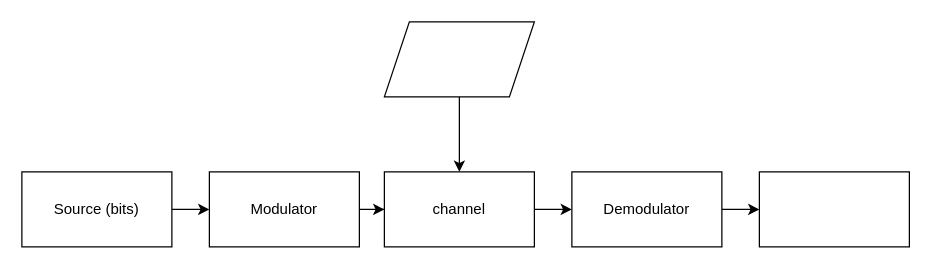
Image size: 931x269. Some labels were removed from this diagram. The shapes that lost their labels are listed below. From the top down, each one's box as (x1, y1, x2, y2) in pixels, then its label:
(383, 21, 534, 97): Noise Added
(758, 171, 909, 247): Receiver (bits)
